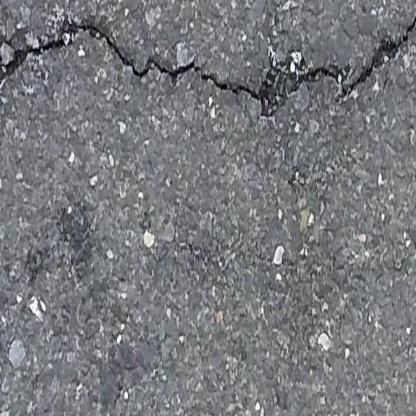Cracks: (0, 4, 416, 124)
